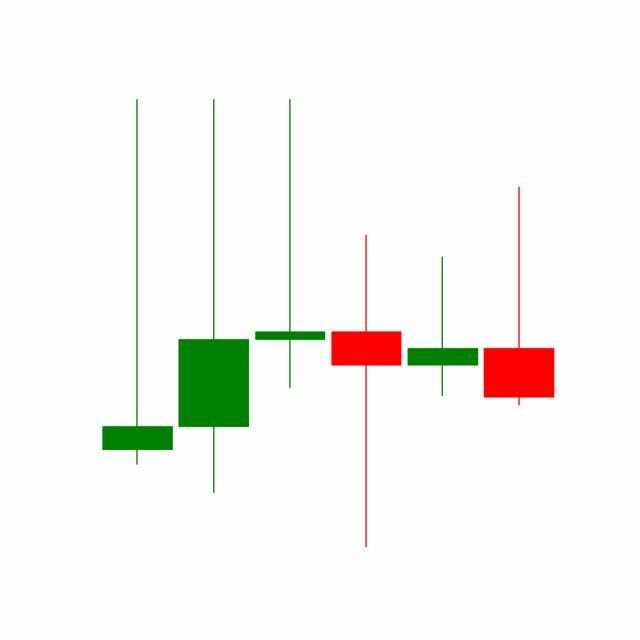Gravestone Doji: (404, 256, 482, 399)
